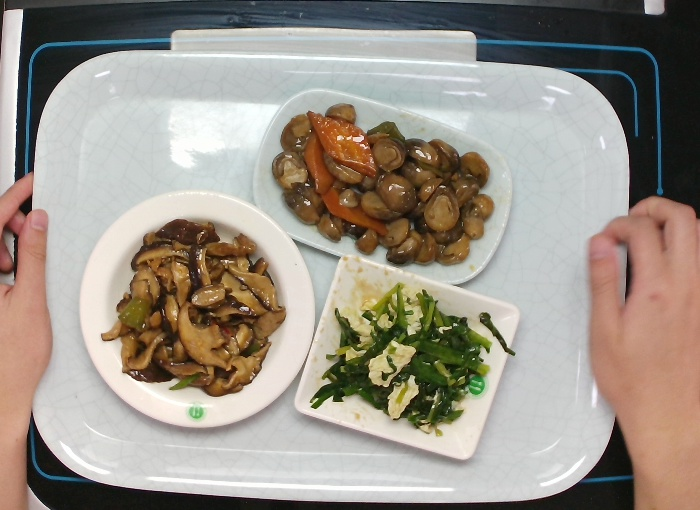WCQzf-Bai_Se_Si_Fang_Die: (295, 253, 520, 462)
WCQzf-Kuan_Bian_Yuan_Die: (77, 187, 317, 430)
WCQzf-Tuo_Yuan_Pan: (248, 87, 514, 286)
